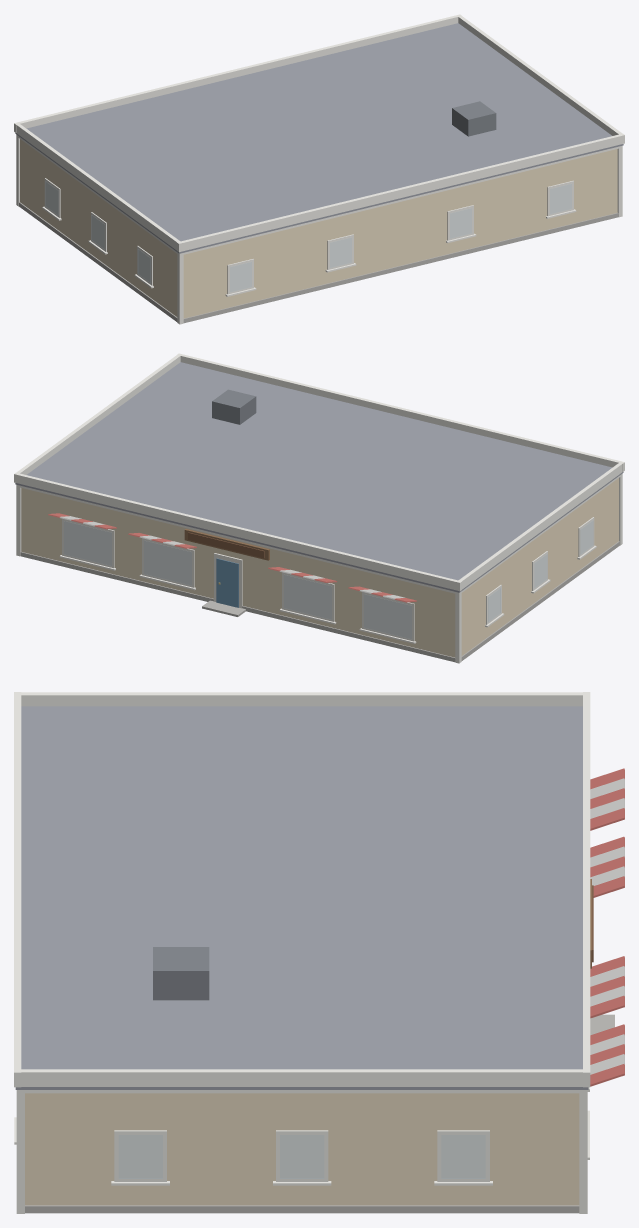
The model's file is cafe_a.glb.
3 renders of one model, top to bottom at view 1: azimuth 30°, elevation 25°; view 2: azimuth 150°, elevation 25°; view 3: azimuth 270°, elevation 25°, orthographic. The views are drawn at different scales.
Visible parts, largest first — view 1: roof, body; view 2: roof, body; view 3: roof, body.
Boxes of the visible parts, x1,y1,x2,y2 form: roof: (14, 14, 624, 253); body: (16, 134, 622, 324); roof: (14, 353, 624, 592); body: (16, 473, 622, 663); roof: (14, 692, 590, 1089); body: (14, 768, 624, 1213).
Size of the model in its own units: 22.3 by 4.6 by 15.14.
